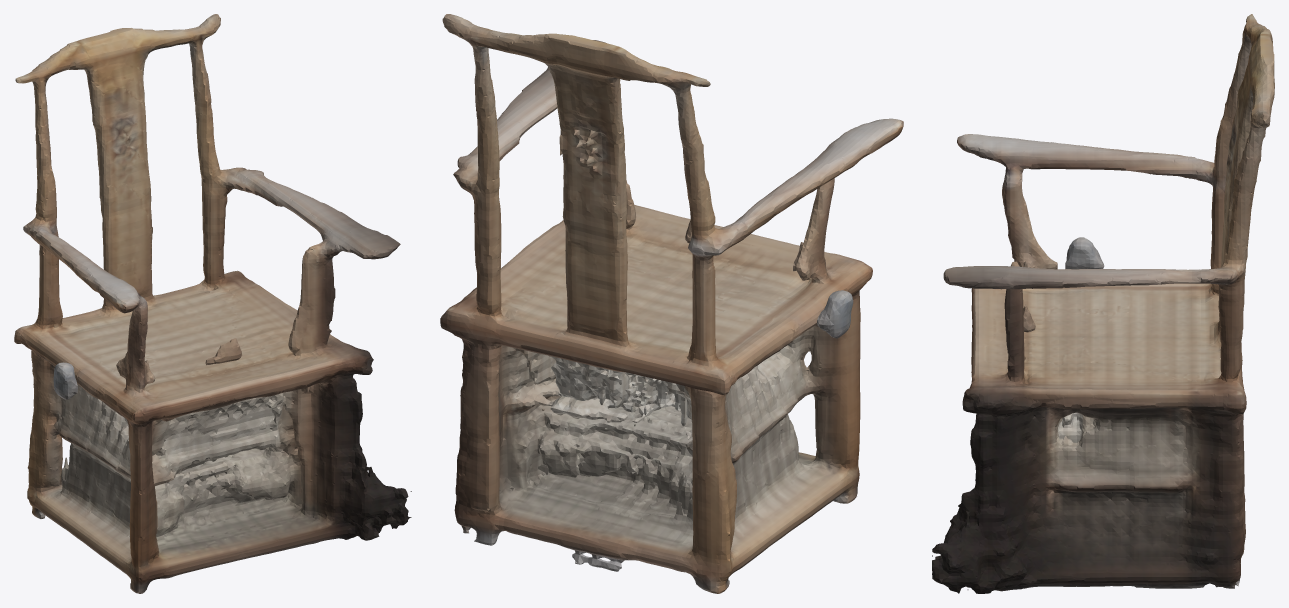
The model's file is instantmesh-chair-three-view.glb.
3 views of the same model, side by side, from view 1: azimuth 30°, elevation 25°; view 2: azimuth 150°, elevation 25°; view 3: azimuth 270°, elevation 25° (orthographic). The views are drawn at different scales.
Visible parts, largest first — view 1: geometry_0; view 2: geometry_0; view 3: geometry_0.
Boxes of the visible parts, x1,y1,x2,y2 form: geometry_0: [14, 14, 411, 593]; geometry_0: [440, 14, 903, 593]; geometry_0: [932, 14, 1274, 593].
Size of the model in its own units: 1.36 by 1.98 by 1.27.
